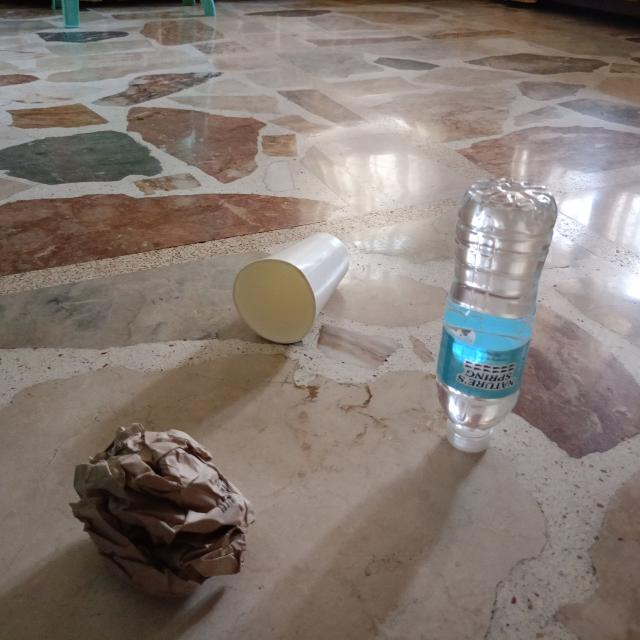Anorganik: (423, 168, 570, 462)
Organik: (56, 410, 266, 613), (224, 218, 360, 348)
